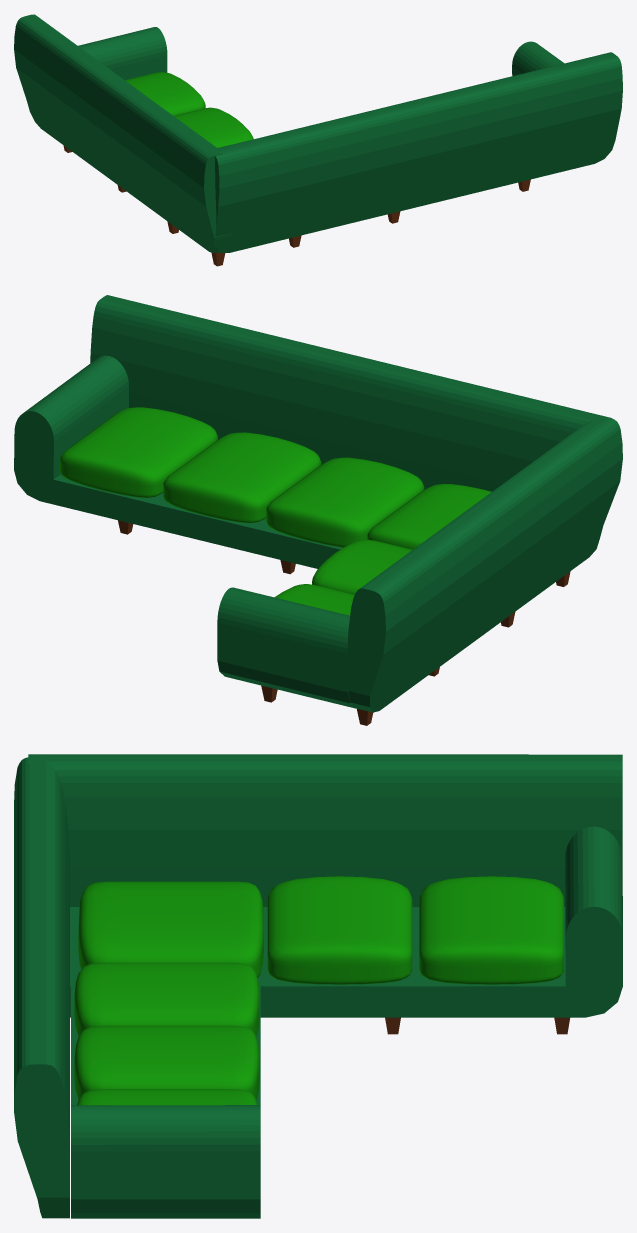
The model's file is Couch.fbx.
The picture shows the model from 3 angles, top to bottom: view 1: azimuth 30°, elevation 25°; view 2: azimuth 150°, elevation 25°; view 3: azimuth 270°, elevation 25°; orthographic projection. The views are drawn at different scales.
Parts seen in each view (by area): view 1: Cylinder.006, Cylinder.007, Cylinder.008, Cylinder.010, Cylinder.009, Cylinder.003; view 2: Cylinder.006, Cylinder.007, Cylinder.003, Cylinder.008, Cylinder.000, Cylinder.002, Cylinder.004, Cylinder.005, Cylinder.009, Cylinder.010; view 3: Cylinder.007, Cylinder.006, Cylinder.003, Cylinder.008, Cylinder.005, Cylinder.009, Cylinder.010, Cylinder.002, Cylinder.004, Cylinder.000.
Boxes of the visible parts, x1=… form: Cylinder.006: x1=209, y1=52, x2=622, y2=252; Cylinder.007: x1=14, y1=14, x2=232, y2=253; Cylinder.008: x1=78, y1=27, x2=167, y2=79; Cylinder.010: x1=125, y1=72, x2=205, y2=115; Cylinder.009: x1=174, y1=107, x2=253, y2=147; Cylinder.003: x1=512, y1=41, x2=564, y2=75; Cylinder.006: x1=90, y1=295, x2=606, y2=491; Cylinder.007: x1=347, y1=415, x2=622, y2=712; Cylinder.003: x1=14, y1=355, x2=342, y2=568; Cylinder.008: x1=217, y1=587, x2=355, y2=708; Cylinder.000: x1=60, y1=407, x2=217, y2=497; Cylinder.002: x1=163, y1=432, x2=321, y2=523; Cylinder.004: x1=266, y1=457, x2=424, y2=547; Cylinder.005: x1=367, y1=484, x2=491, y2=549; Cylinder.009: x1=312, y1=539, x2=412, y2=594; Cylinder.010: x1=274, y1=584, x2=354, y2=615; Cylinder.007: x1=28, y1=754, x2=622, y2=906; Cylinder.006: x1=14, y1=756, x2=69, y2=1218; Cylinder.003: x1=71, y1=913, x2=260, y2=1218; Cylinder.008: x1=70, y1=826, x2=622, y2=1017; Cylinder.005: x1=78, y1=881, x2=263, y2=977; Cylinder.009: x1=267, y1=876, x2=412, y2=984; Cylinder.010: x1=419, y1=876, x2=563, y2=984; Cylinder.002: x1=74, y1=1025, x2=259, y2=1099; Cylinder.004: x1=74, y1=962, x2=259, y2=1036; Cylinder.000: x1=77, y1=1089, x2=257, y2=1105.
Size of the model in its own units: 626 by 183 by 510.
